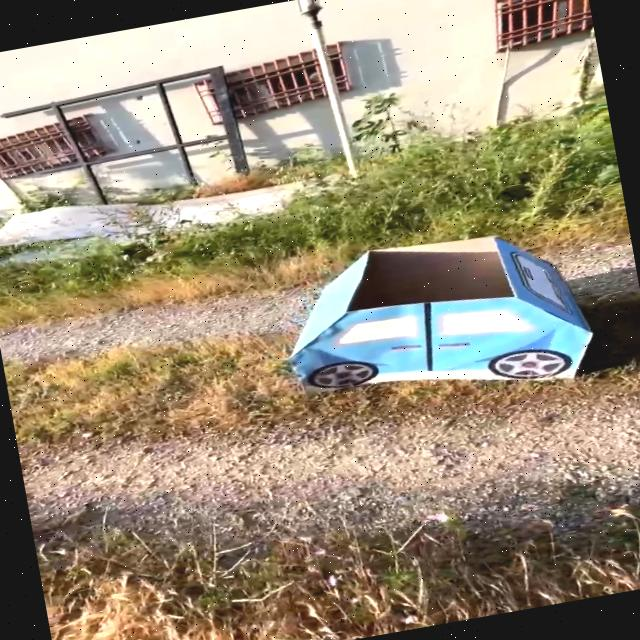blue_car: (203, 192, 640, 462)
